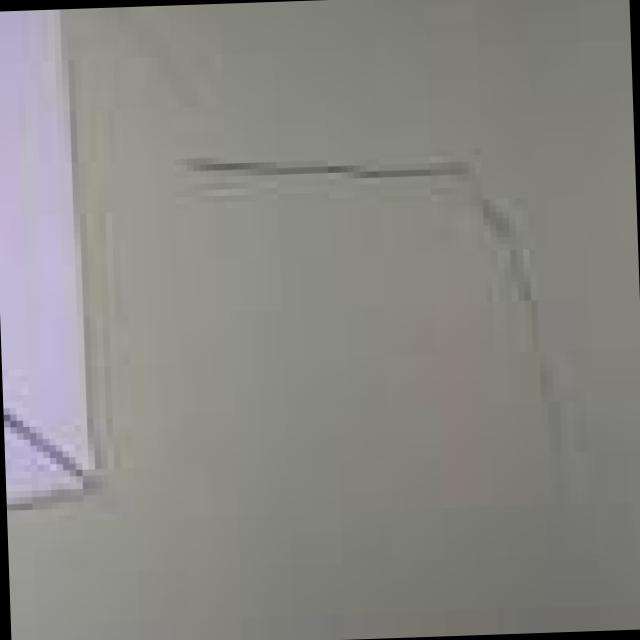crack: (192, 132, 569, 490)
